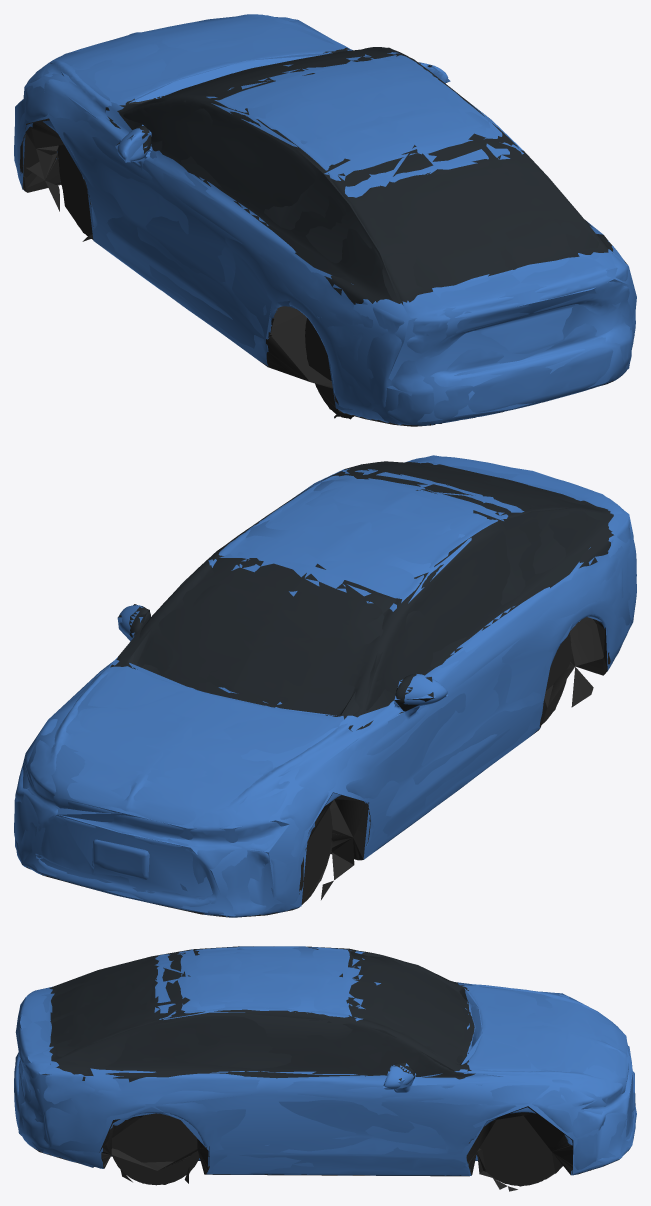
File: toyota-crown.glb
3 renders of one model, top to bottom at view 1: azimuth 30°, elevation 25°; view 2: azimuth 150°, elevation 25°; view 3: azimuth 270°, elevation 25°, orthographic. The views are drawn at different scales.
Parts seen in each view (by area): view 1: body, far; view 2: body, far; view 3: body, far.
Boxes of the visible parts, x1,y1,x2,y2 form: body: (14, 14, 635, 426); far: (14, 16, 636, 423); body: (14, 456, 636, 917); far: (14, 455, 634, 916); body: (14, 946, 635, 1191); far: (14, 946, 636, 1186).
Bounding box in the file's own units: 2.26 × 1.53 × 4.97.
